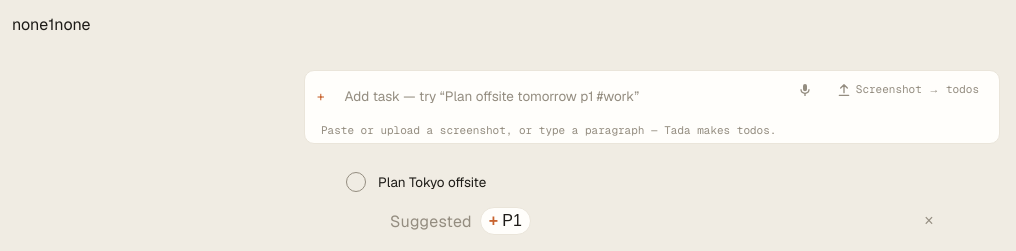
Test case: TodoListView — enrichment chip acceptance on the row › dismissing chips clears the enrichment offer without patching the todo
Step 1. Click the button named "dismiss suggestions" → (929, 221), box [918,210,940,232]
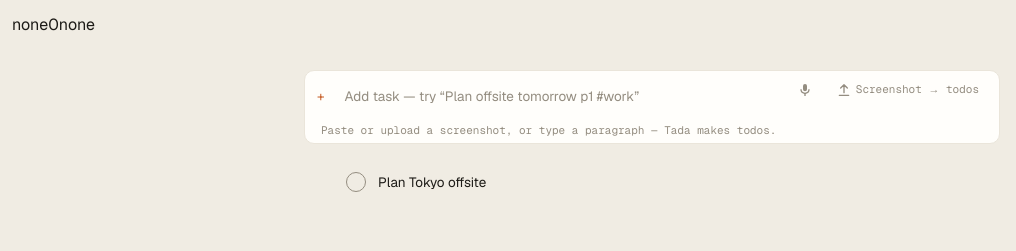
Expected: the text with test id "prios" reads "none", [12,14,48,35]
Expected: the text with test id "enrichment-chip-count" reads "0", [48,14,59,35]
